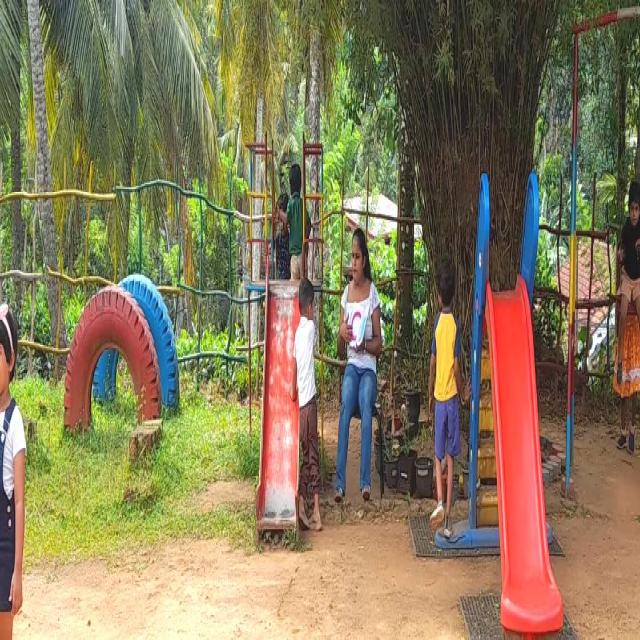adult: (332, 215, 378, 510)
child: (290, 286, 326, 540), (426, 251, 454, 547), (0, 303, 22, 640), (618, 172, 640, 370)
